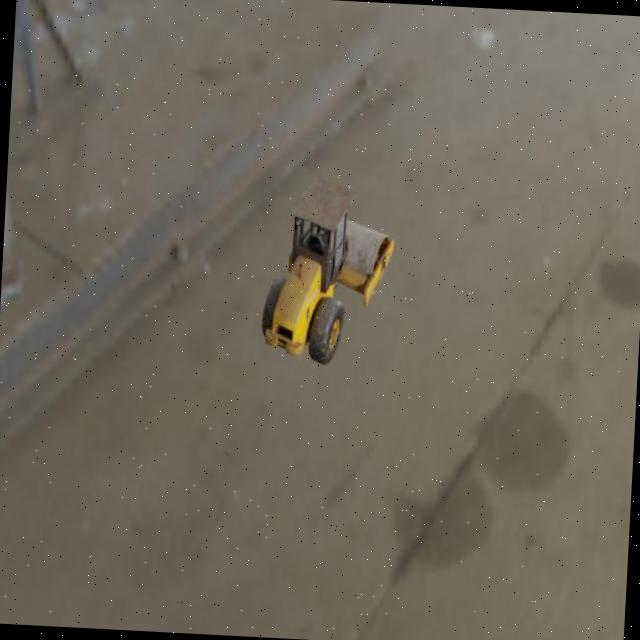Roller: (259, 175, 397, 368)
